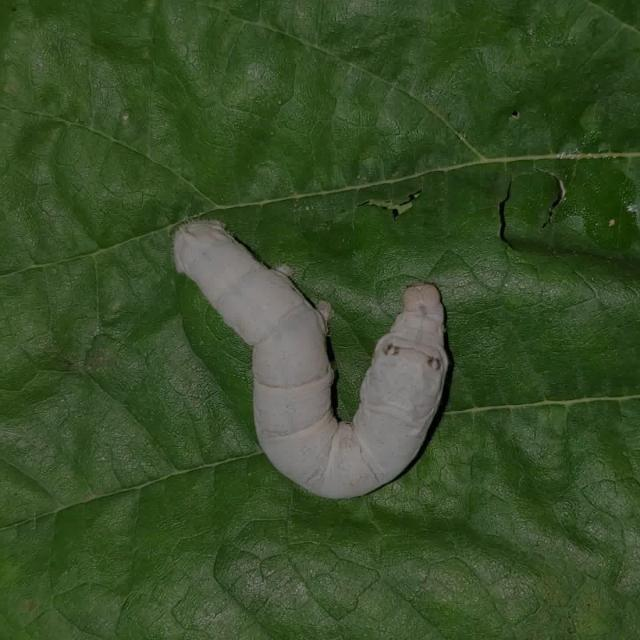Healthy: (142, 190, 495, 521)
